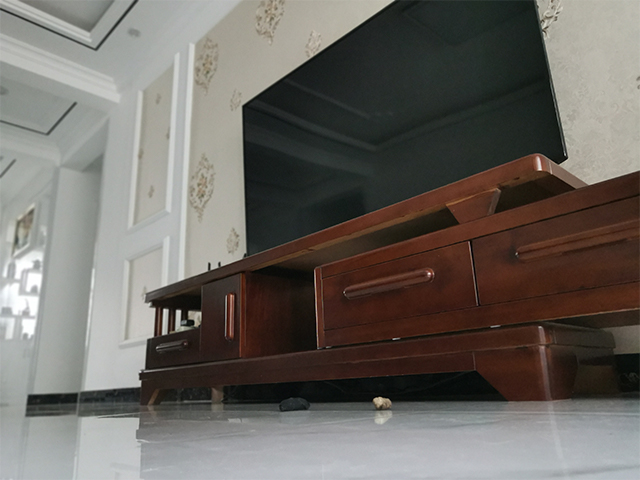cabinet: (137, 150, 640, 406)
feces: (276, 397, 312, 412), (370, 395, 395, 411)
